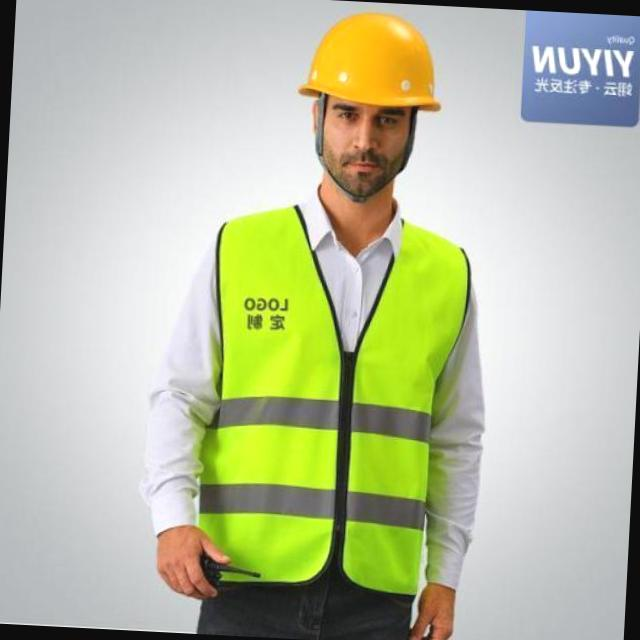helmet: (295, 10, 446, 119)
no-gloves: (136, 520, 231, 618), (410, 556, 477, 640)
vest: (192, 198, 468, 600)
